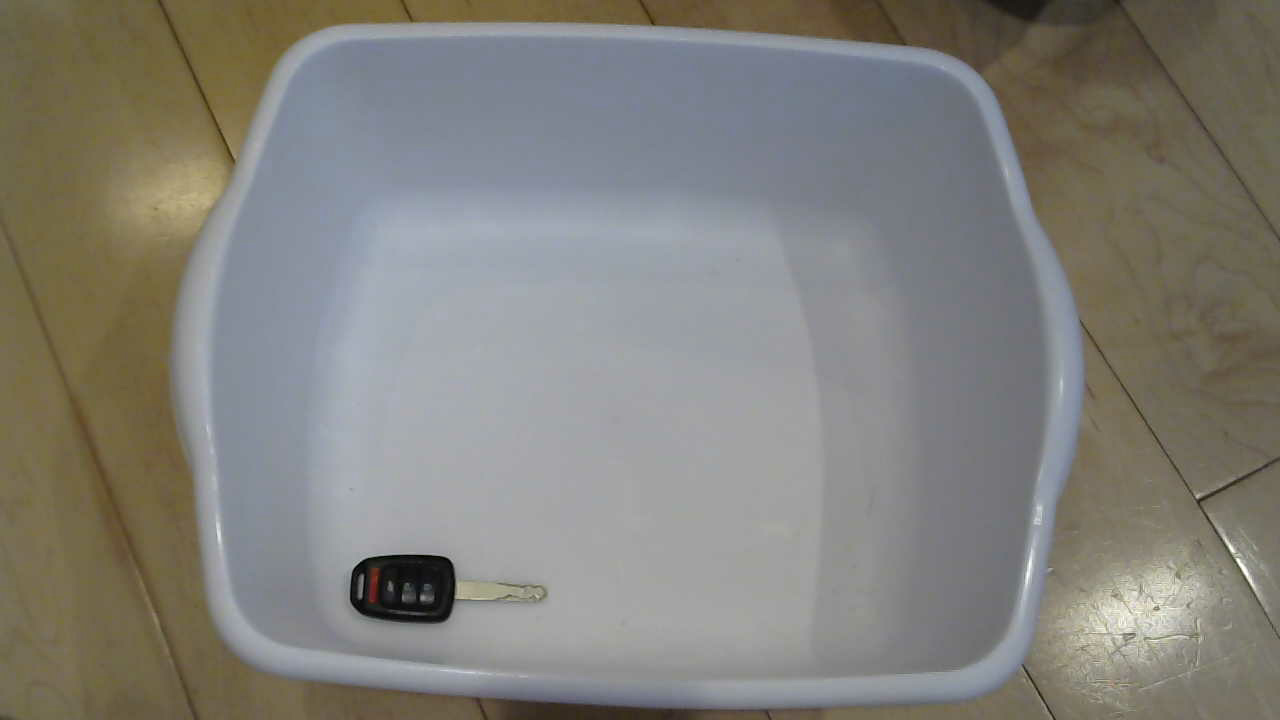key: (340, 553, 566, 649)
